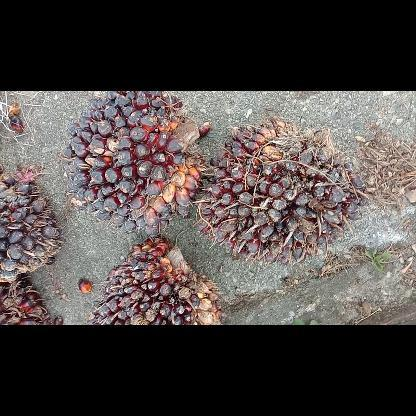TBS mentah: (195, 116, 366, 266), (63, 90, 209, 235), (92, 238, 222, 324), (0, 163, 65, 284)
